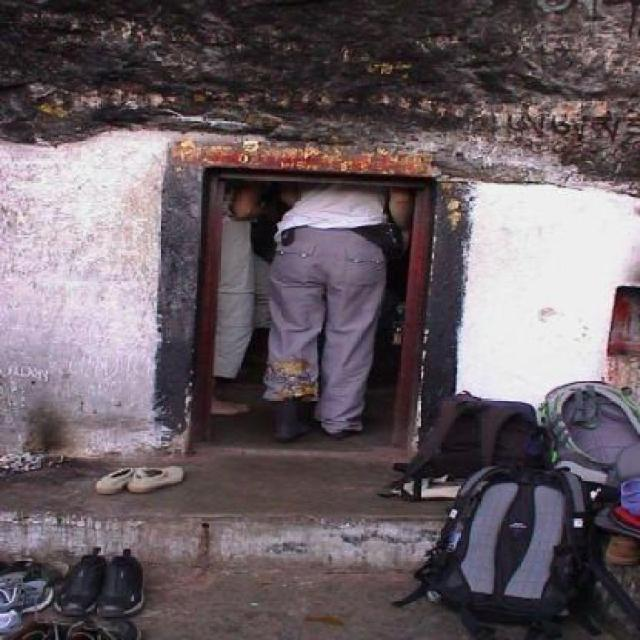backpack: (422, 464, 602, 628), (397, 388, 540, 474), (538, 374, 640, 471)
